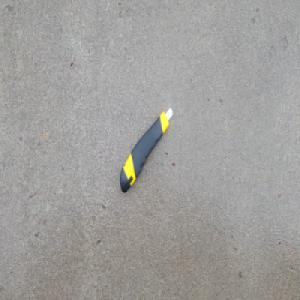Cutter: (119, 106, 174, 194)
